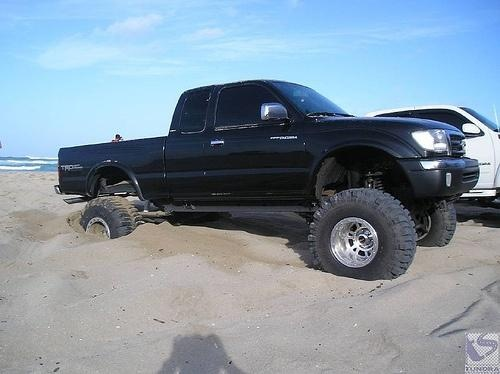car: (57, 78, 484, 282), (357, 104, 500, 212)
